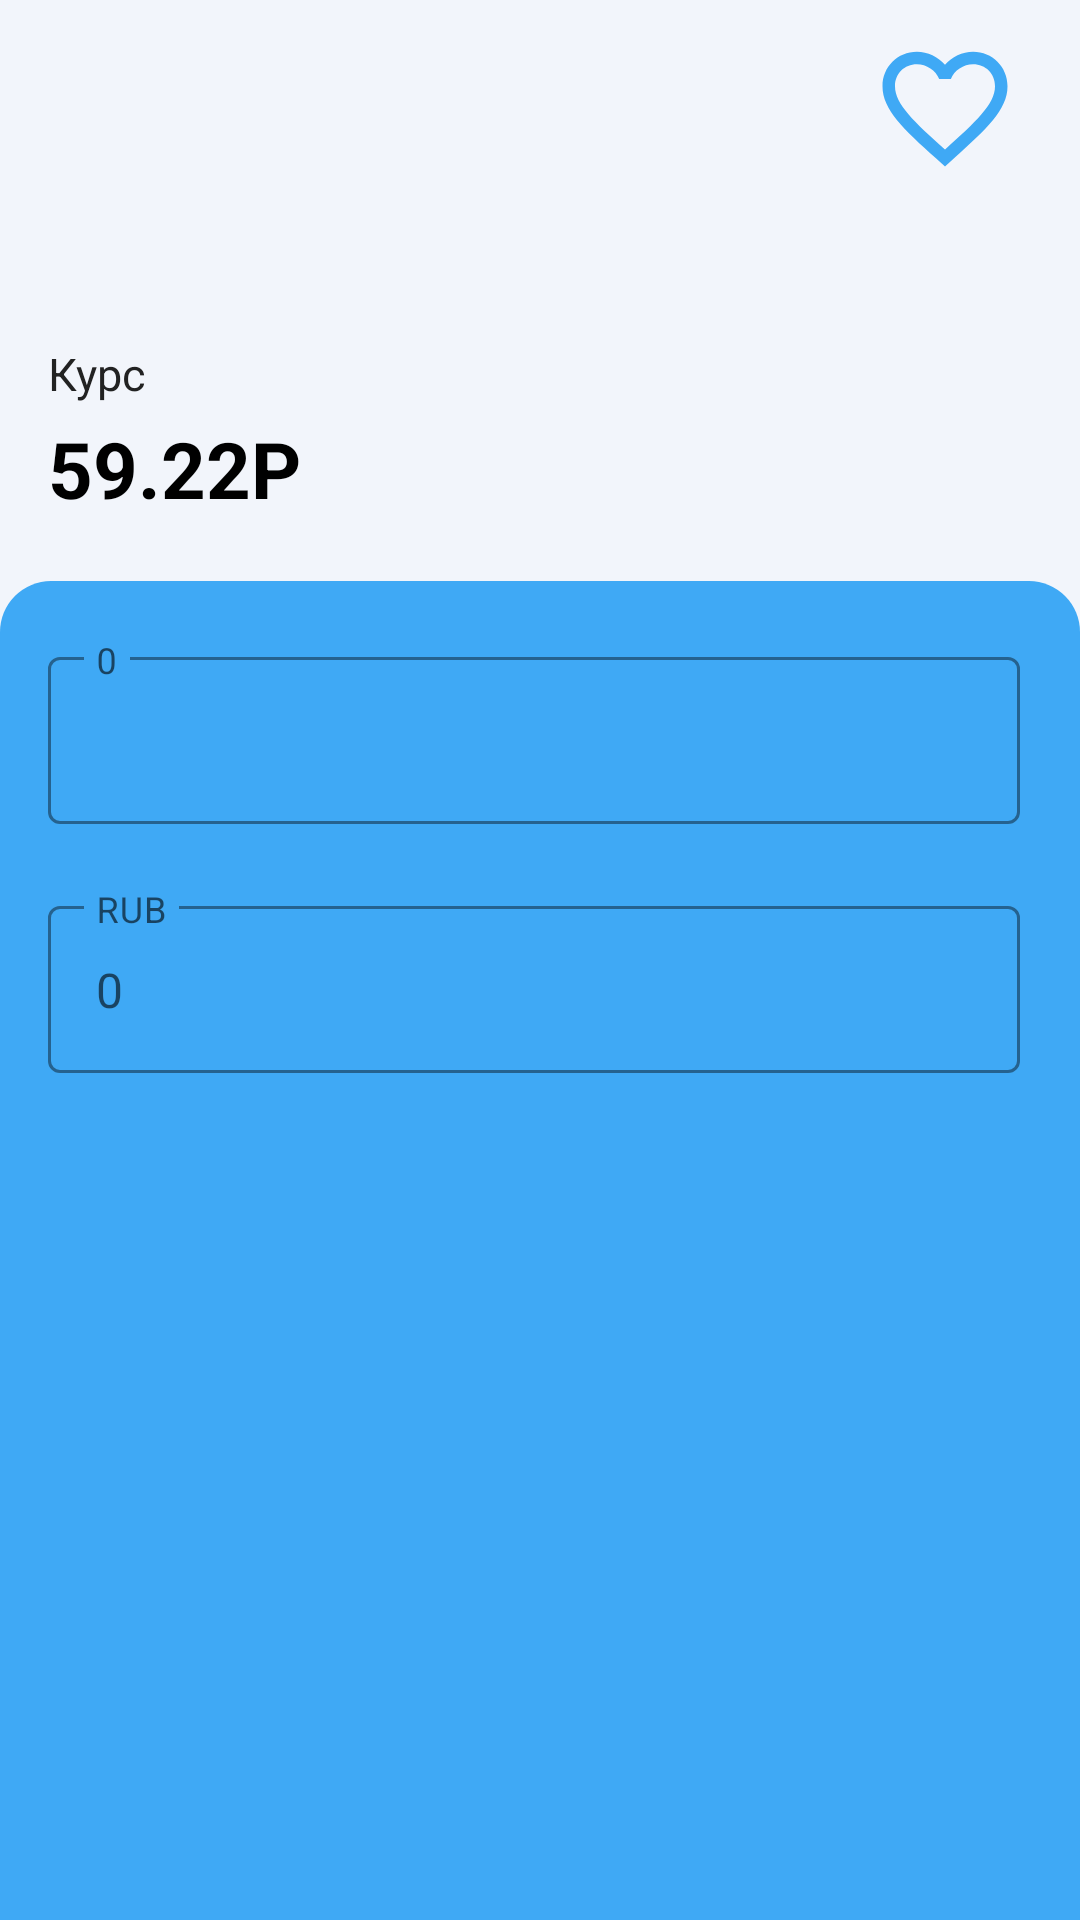

Point at icon controls on the screen. Image size 1080 × 1920, points as (x,y).
Кнопка добавить в избранное: (945,108)
